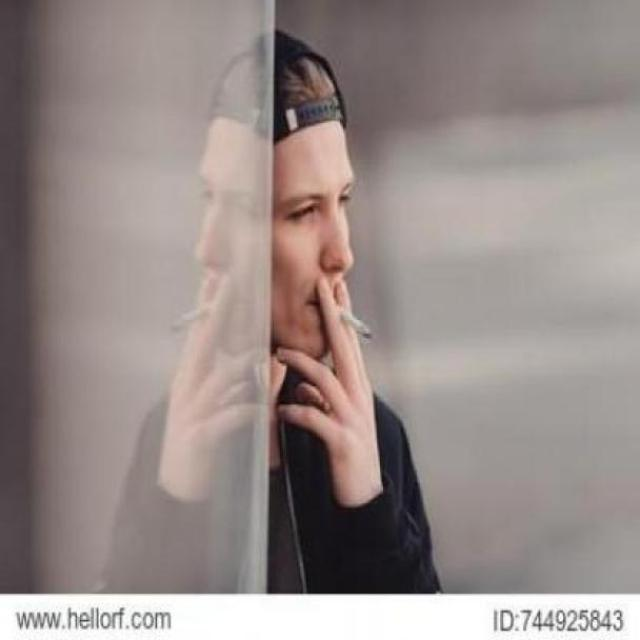rokok: (317, 290, 377, 344)
